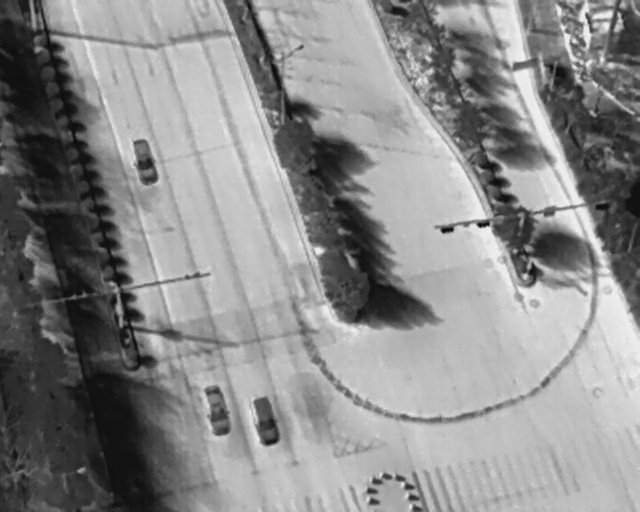Car: (201, 382, 234, 438), (248, 393, 280, 446), (129, 138, 158, 185)
